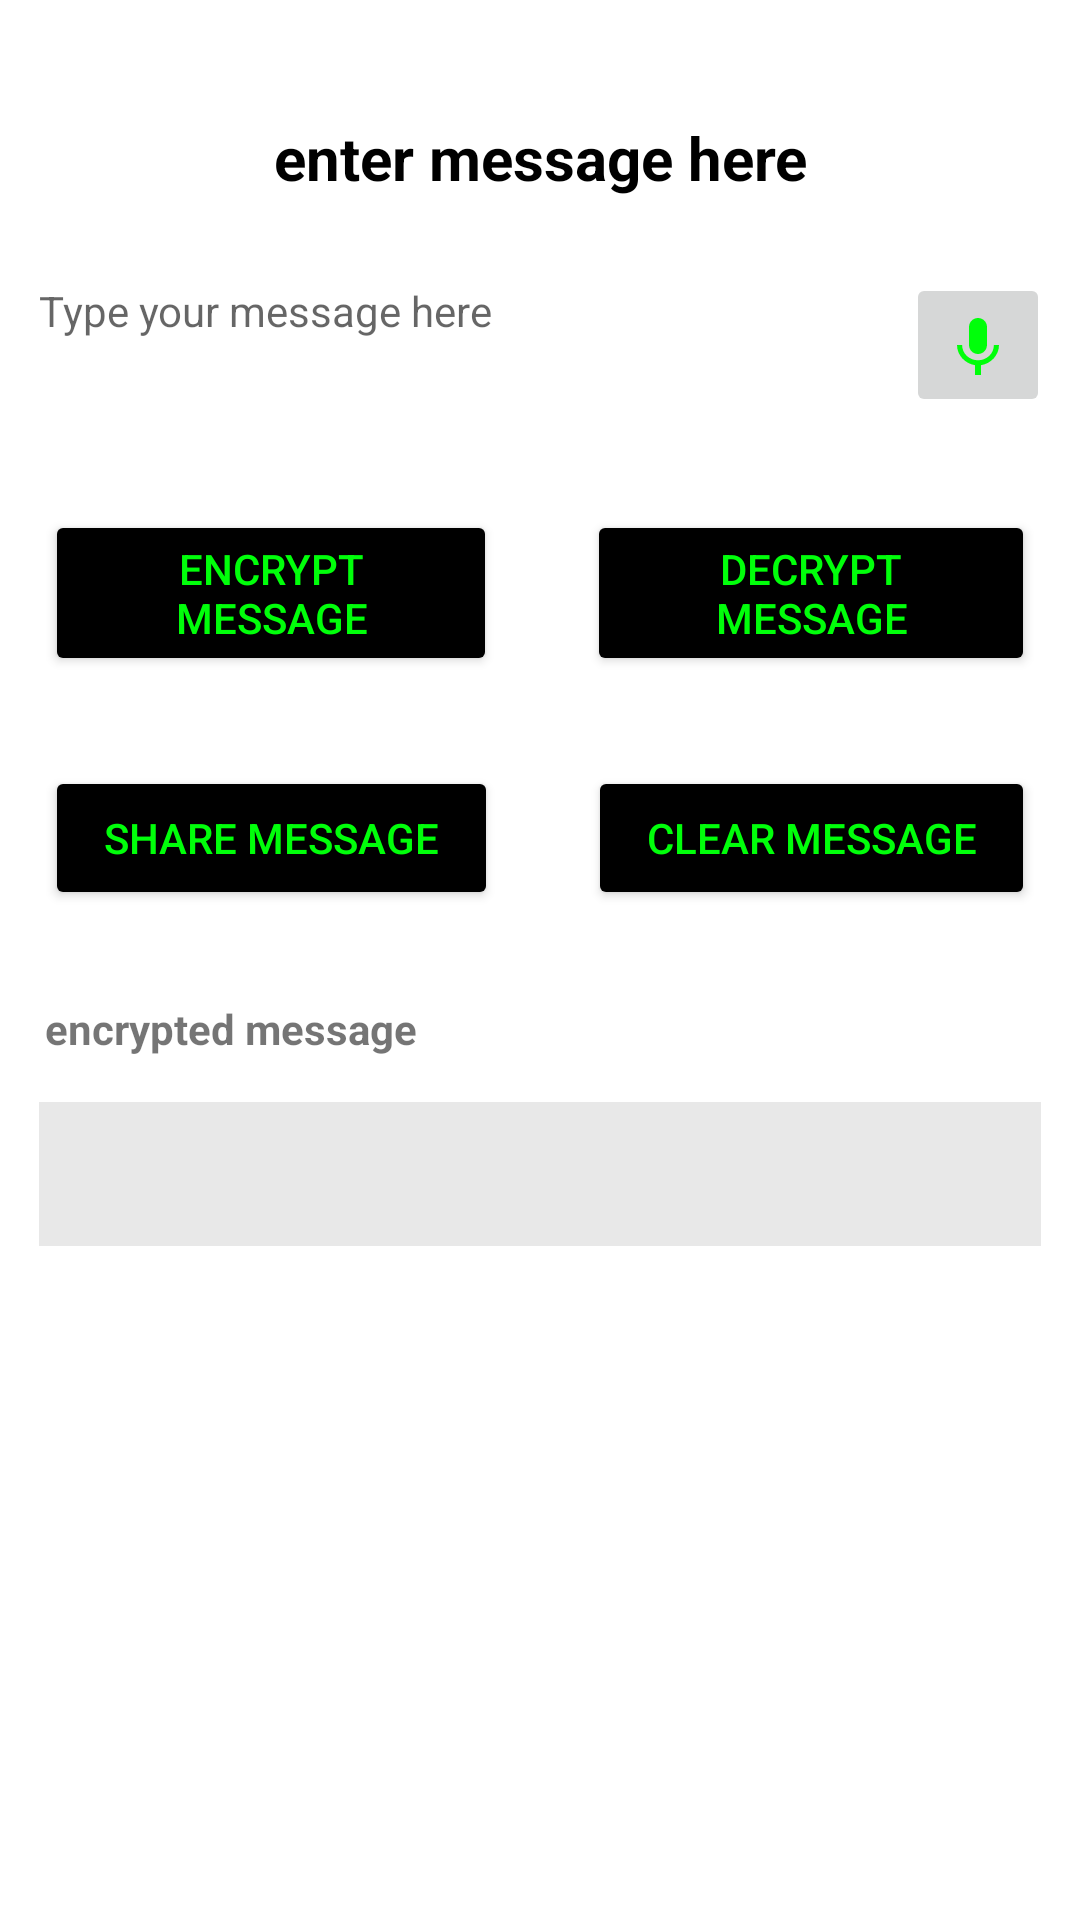

Icon click points for this 1080×1920 phone screenshot, format [x,y]:
keyboard voice: [978,345]
